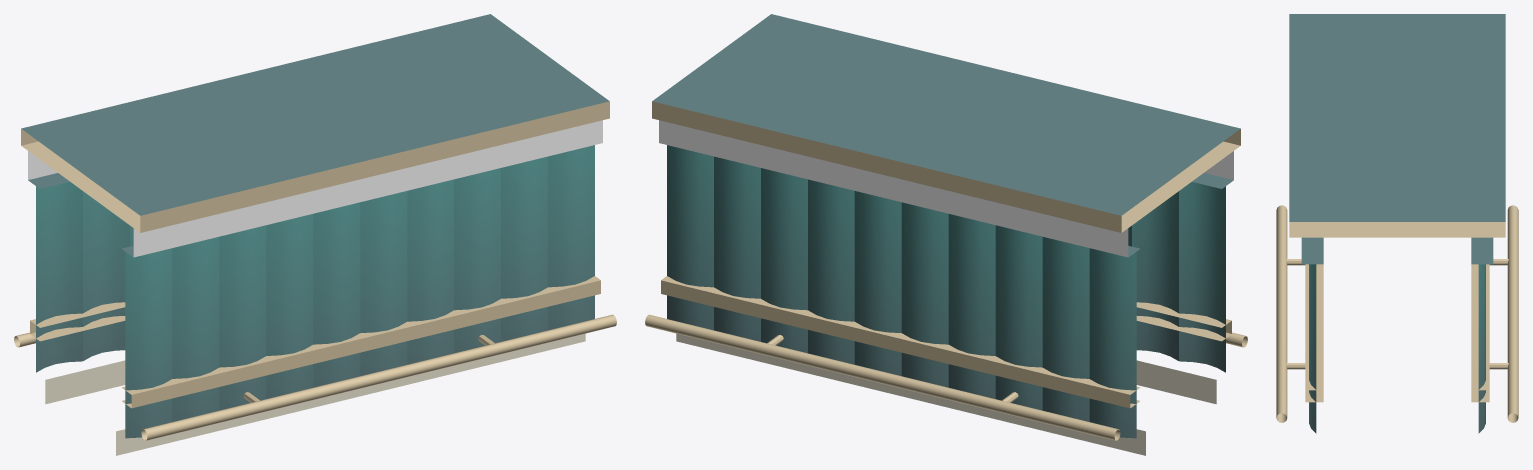
File: KC32__AD_Int_Bar_Straight.glb
The picture shows the model from 3 angles, left to right: view 1: azimuth 30°, elevation 25°; view 2: azimuth 150°, elevation 25°; view 3: azimuth 270°, elevation 25°; orthographic projection. The views are drawn at different scales.
Parts seen in each view (by area): view 1: KC32_CORPS__AD_Int_Bar_Straight, KC32_BRONZE__AD_Int_Bar_Straight, KC32_ACCENT__AD_Int_Bar_Straight, KC32_LUMIERE__AD_Int_Bar_Straight; view 2: KC32_CORPS__AD_Int_Bar_Straight, KC32_BRONZE__AD_Int_Bar_Straight, KC32_ACCENT__AD_Int_Bar_Straight, KC32_LUMIERE__AD_Int_Bar_Straight; view 3: KC32_CORPS__AD_Int_Bar_Straight, KC32_BRONZE__AD_Int_Bar_Straight.
Part boxes in pixels (bbox=[...]): KC32_CORPS__AD_Int_Bar_Straight: bbox=[21, 14, 609, 438]; KC32_BRONZE__AD_Int_Bar_Straight: bbox=[14, 101, 616, 440]; KC32_ACCENT__AD_Int_Bar_Straight: bbox=[28, 120, 602, 257]; KC32_LUMIERE__AD_Int_Bar_Straight: bbox=[45, 333, 585, 455]; KC32_CORPS__AD_Int_Bar_Straight: bbox=[652, 14, 1240, 438]; KC32_BRONZE__AD_Int_Bar_Straight: bbox=[645, 101, 1247, 440]; KC32_ACCENT__AD_Int_Bar_Straight: bbox=[659, 120, 1233, 257]; KC32_LUMIERE__AD_Int_Bar_Straight: bbox=[676, 333, 1216, 455]; KC32_CORPS__AD_Int_Bar_Straight: bbox=[1289, 14, 1505, 433]; KC32_BRONZE__AD_Int_Bar_Straight: bbox=[1276, 205, 1518, 422].
Bounding box in the file's own units: 2 × 1.05 × 0.984.
